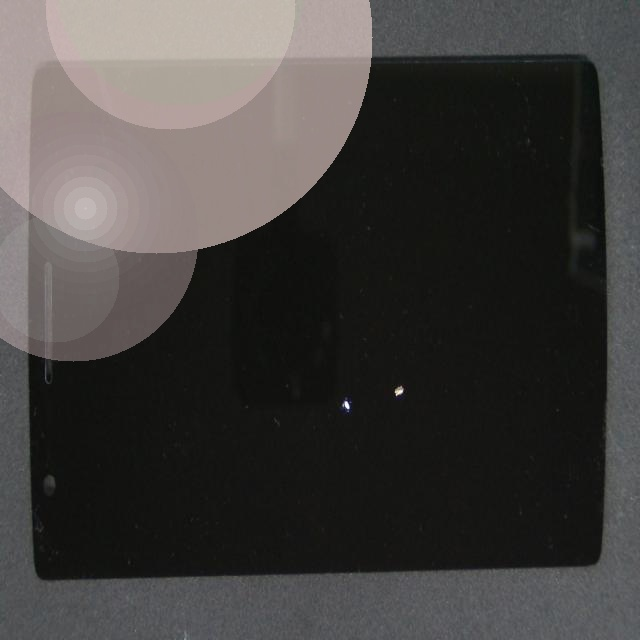stain: (219, 218, 616, 572), (197, 234, 536, 603)
